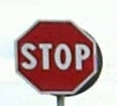stop: (15, 18, 98, 95)
